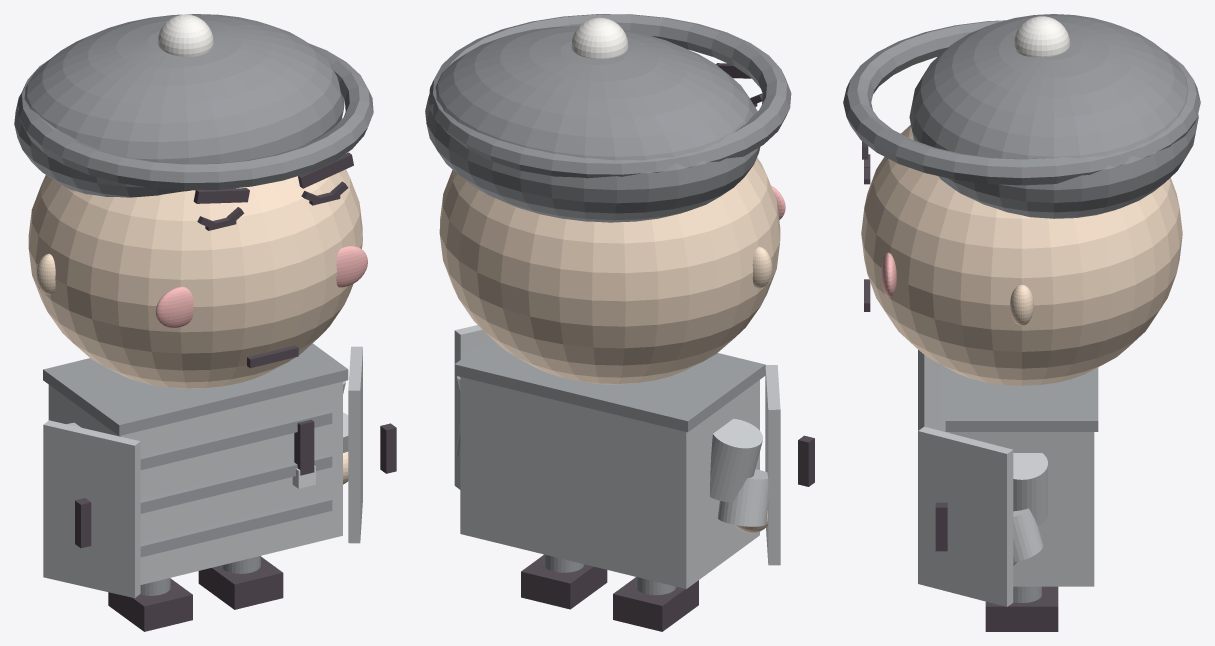
Rendered from locker.glb.
The picture shows the model from 3 angles, left to right: view 1: azimuth 30°, elevation 25°; view 2: azimuth 150°, elevation 25°; view 3: azimuth 270°, elevation 25°; orthographic projection.
Parts seen in each view (by area): view 1: Head, Beanie, LockerBody, Door_L, BeanieBrim, LockerTop, Shelf_0.28, Door_R, Foot_R, Shelf_0.52, Foot_L, Shelf_0.4 (+10 smaller); view 2: Head, Beanie, LockerBody, BeanieBrim, LockerTop, UpperArm_L, Foot_L, Door_L, Foot_R, Forearm_L, BeaniePom, Door_R (+2 smaller); view 3: Head, Beanie, Door_R, BeanieBrim, LockerBody, LockerTop, Foot_R, UpperArm_R, BeaniePom, Door_L, Forearm_R, Ear_R (+2 smaller).
Part boxes in pixels (left/top/right/bottom): Head: left=28, top=169, right=362, bottom=388; Beanie: left=14, top=14, right=344, bottom=197; LockerBody: left=48, top=381, right=342, bottom=584; Door_L: left=43, top=420, right=140, bottom=598; BeanieBrim: left=18, top=43, right=373, bottom=190; LockerTop: left=43, top=343, right=348, bottom=435; Shelf_0.28: left=140, top=497, right=332, bottom=557; Door_R: left=348, top=346, right=362, bottom=543; Foot_R: left=198, top=556, right=283, bottom=609; Shelf_0.52: left=140, top=410, right=332, bottom=470; Foot_L: left=108, top=579, right=192, bottom=631; Shelf_0.4: left=140, top=454, right=332, bottom=513; Head: left=439, top=157, right=780, bottom=384; Beanie: left=425, top=26, right=760, bottom=222; LockerBody: left=460, top=377, right=759, bottom=588; BeanieBrim: left=428, top=14, right=791, bottom=178; LockerTop: left=454, top=338, right=765, bottom=432; UpperArm_L: left=710, top=418, right=762, bottom=502; Foot_L: left=613, top=577, right=698, bottom=631; Door_L: left=765, top=365, right=780, bottom=565; Foot_R: left=521, top=555, right=607, bottom=609; Forearm_L: left=717, top=469, right=768, bottom=526; BeaniePom: left=571, top=17, right=628, bottom=58; Door_R: left=454, top=325, right=490, bottom=489; Head: left=861, top=125, right=1182, bottom=385; Beanie: left=909, top=14, right=1198, bottom=218; Door_R: left=918, top=426, right=1013, bottom=606; BeanieBrim: left=843, top=20, right=1200, bottom=185; LockerBody: left=949, top=432, right=1094, bottom=586; LockerTop: left=945, top=367, right=1098, bottom=431; Foot_R: left=985, top=586, right=1058, bottom=631; UpperArm_R: left=1013, top=453, right=1047, bottom=525; BeaniePom: left=1014, top=16, right=1070, bottom=57; Door_L: left=918, top=350, right=942, bottom=431; Forearm_R: left=1013, top=508, right=1043, bottom=561; Ear_R: left=1010, top=285, right=1033, bottom=325.
Bounding box in the file's own units: 1.16 × 2 × 1.12.
